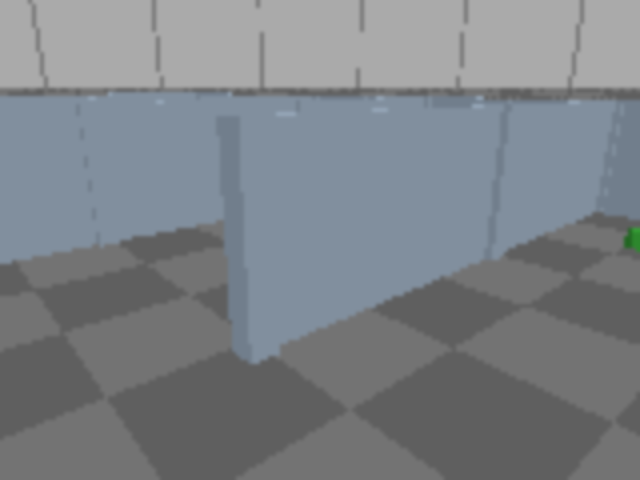puck: (624, 228, 638, 251)
